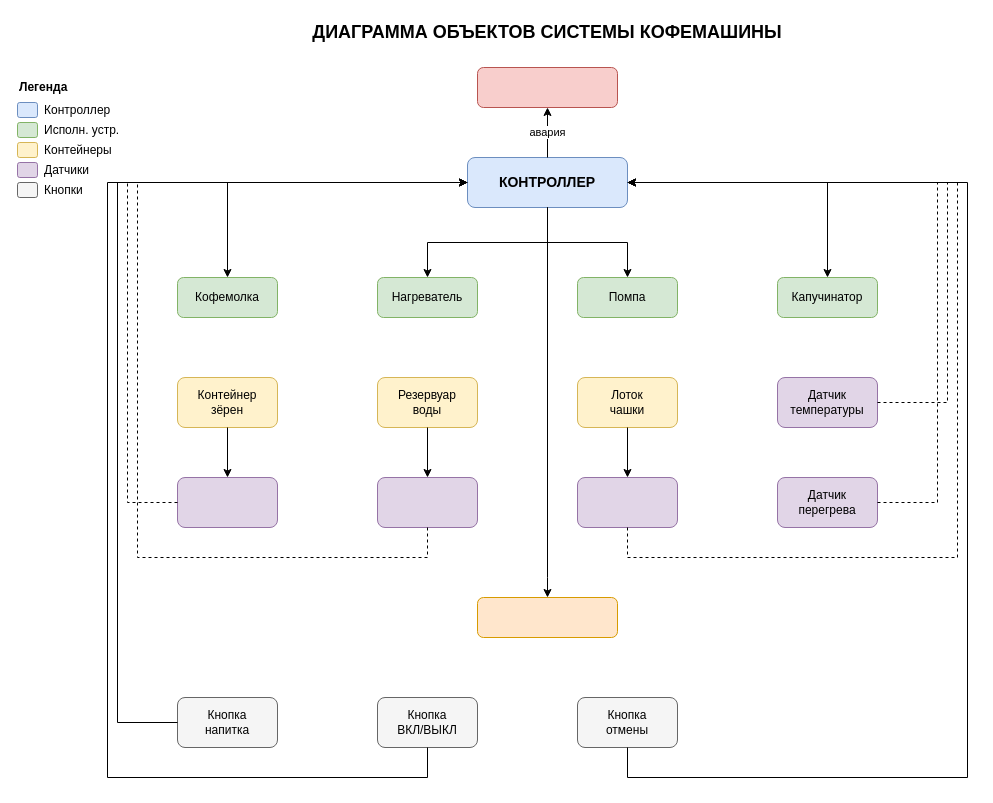
Image size: 993x803. Some labels were removed from this diagram. Each missing label, with the box of its shape:
Датчик воды: (376, 476, 478, 528)
Датчик зёрен: (176, 476, 278, 528)
Датчик чашки: (576, 476, 678, 528)
Дисплей: (476, 596, 618, 638)
Сервисная служба: (476, 66, 618, 108)
